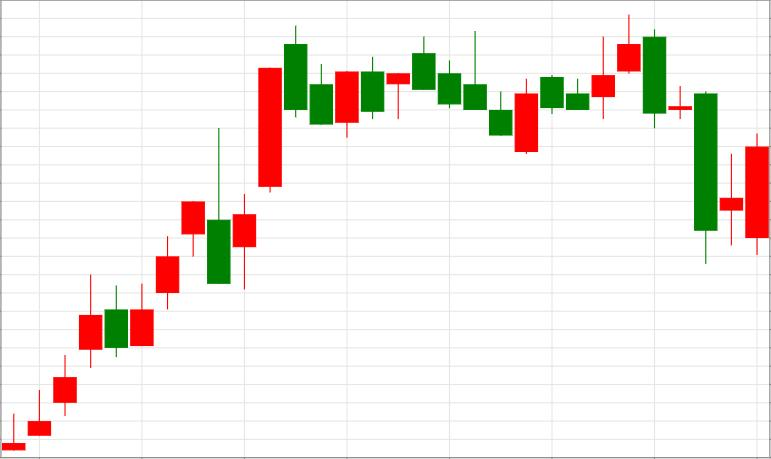bullish_engulfing_rise: (412, 31, 538, 155)
shooting_star_fall: (515, 15, 641, 156)
